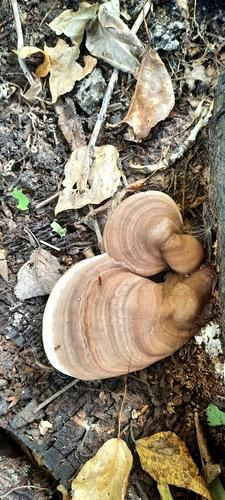Ganoderma - Fruit Body: (7, 261, 214, 386), (98, 187, 204, 285)
